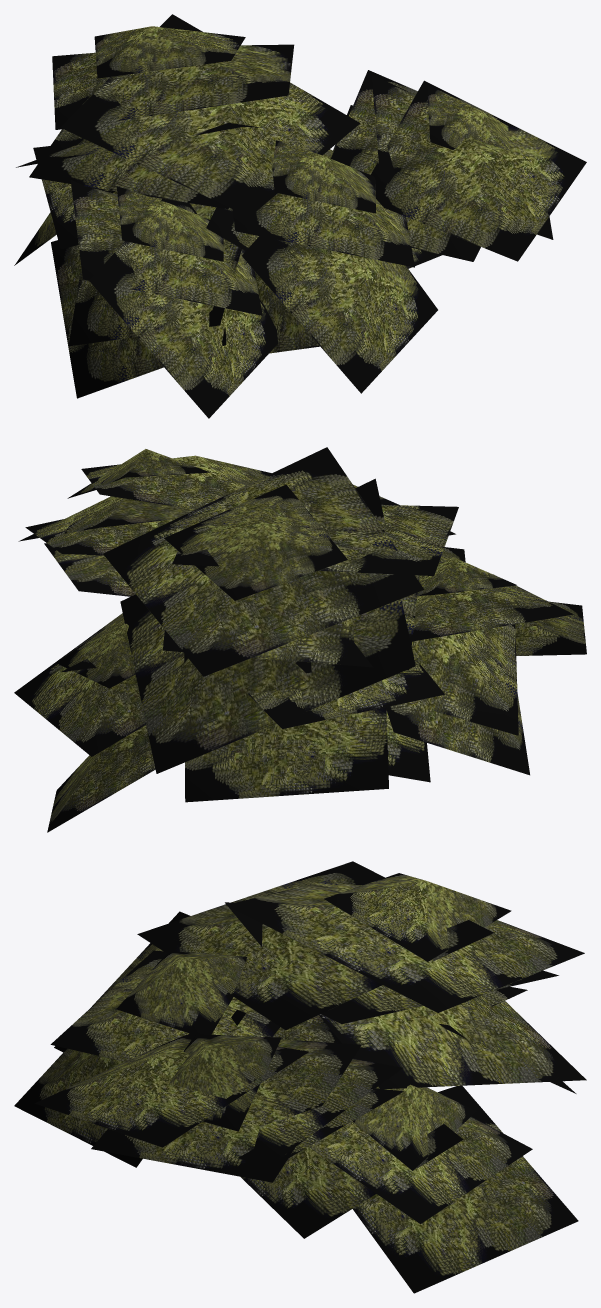
File: nder38.obj
3 renders of one model, top to bottom at view 1: azimuth 30°, elevation 25°; view 2: azimuth 150°, elevation 25°; view 3: azimuth 270°, elevation 25°, orthographic. The views are drawn at different scales.
Parts seen in each view (by area): view 1: nder38; view 2: nder38; view 3: nder38.
Part boxes in pixels (x1,y1,x2,y2): nder38: [14, 14, 586, 418]; nder38: [14, 447, 586, 832]; nder38: [14, 861, 586, 1293].
Bounding box in the file's own units: 206 × 122 × 203.
